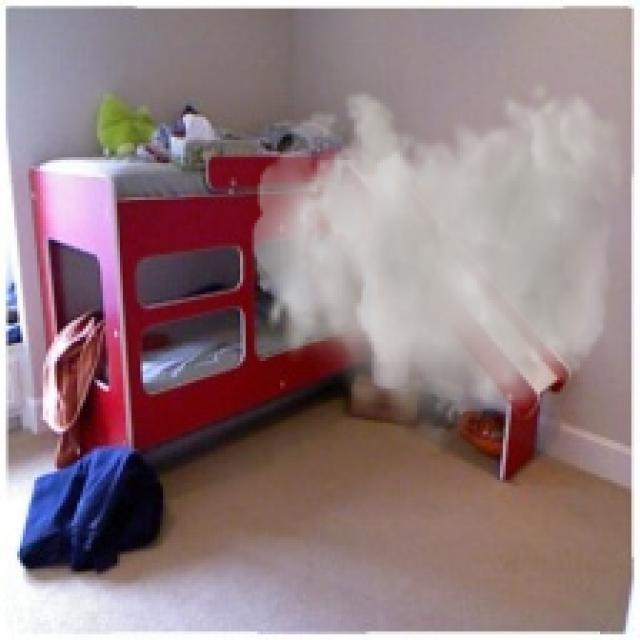Smoke: (251, 77, 626, 460)
